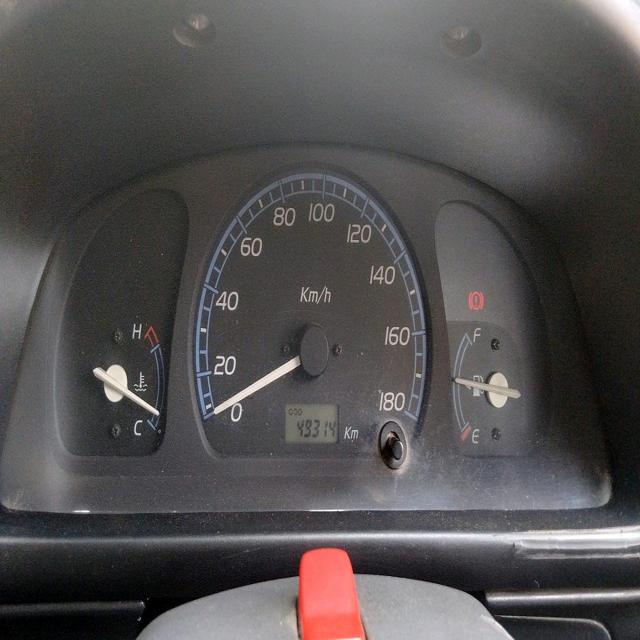odometer: (295, 416, 338, 440)
